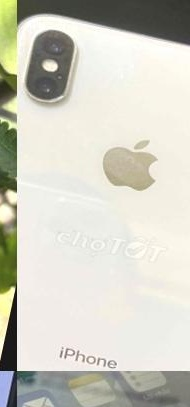scratch: (56, 86, 71, 101)
